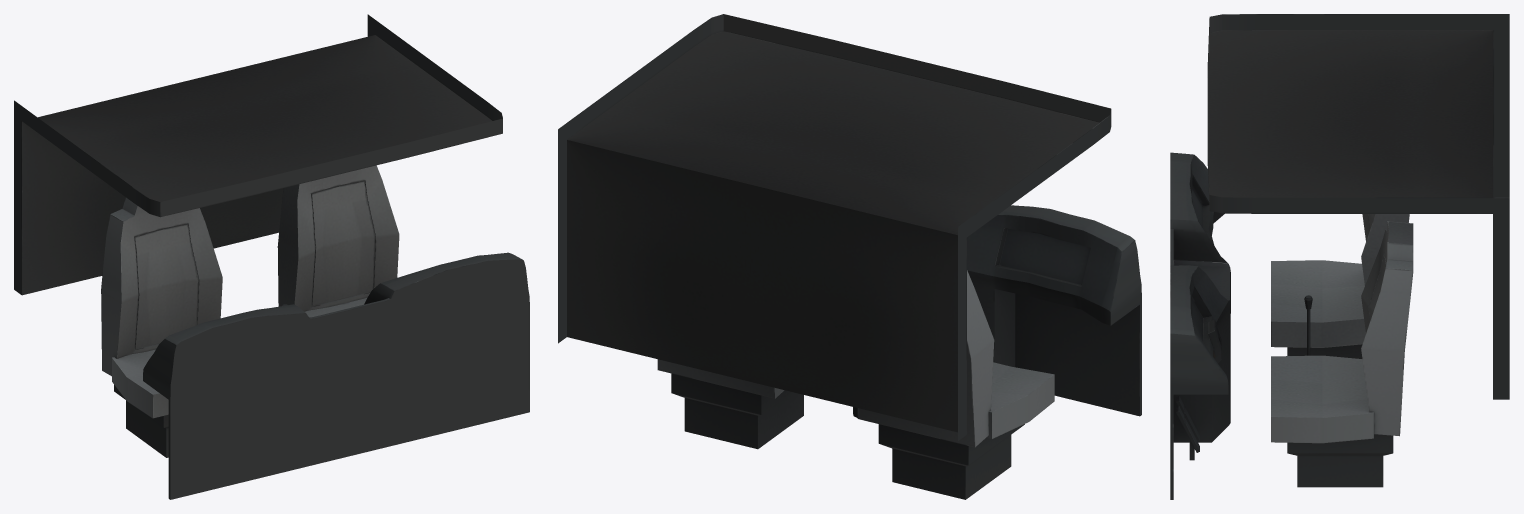
Rendered from interior.fbx.
3 renders of one model, left to right at view 1: azimuth 30°, elevation 25°; view 2: azimuth 150°, elevation 25°; view 3: azimuth 270°, elevation 25°, orthographic. The views are drawn at different scales.
Visible parts, largest first — view 1: interior; view 2: interior; view 3: interior.
Part boxes in pixels (bbox=[...]): interior: bbox=[14, 14, 529, 499]; interior: bbox=[558, 14, 1141, 499]; interior: bbox=[1170, 14, 1509, 499].
Size of the model in its own units: 209 by 166 by 161.
1 material, 1 textured.
